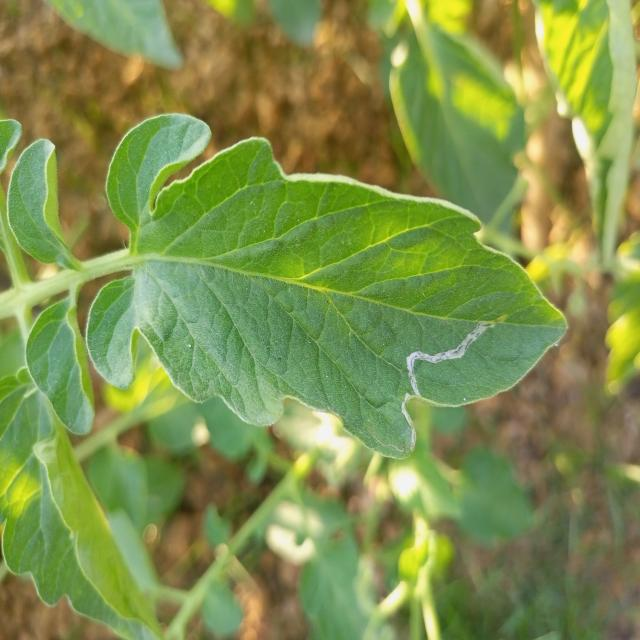Tuta absoluta: (392, 300, 494, 397)
